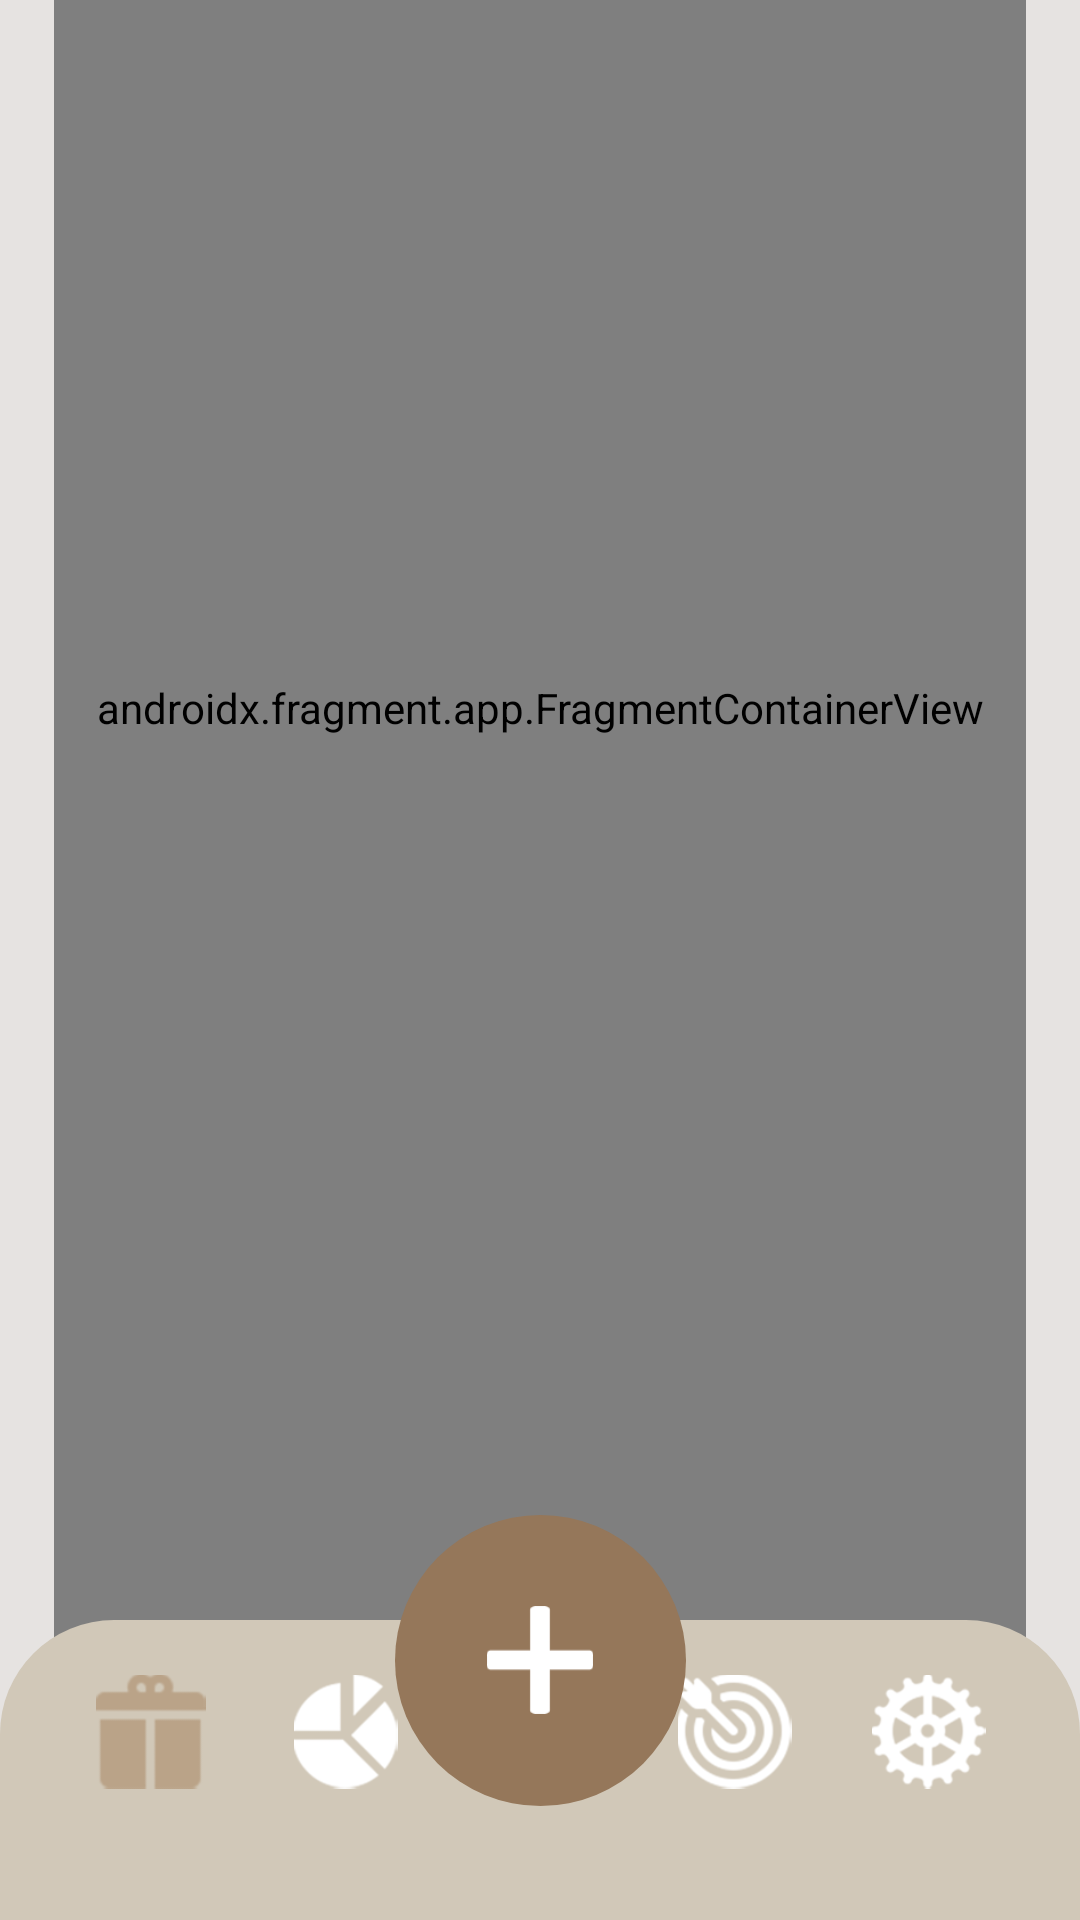

Icon bounding boxes for this 1080 × 1920 phone screenshot, format (x1, y1, x2, y2):
plus: (487, 1606, 593, 1714)
